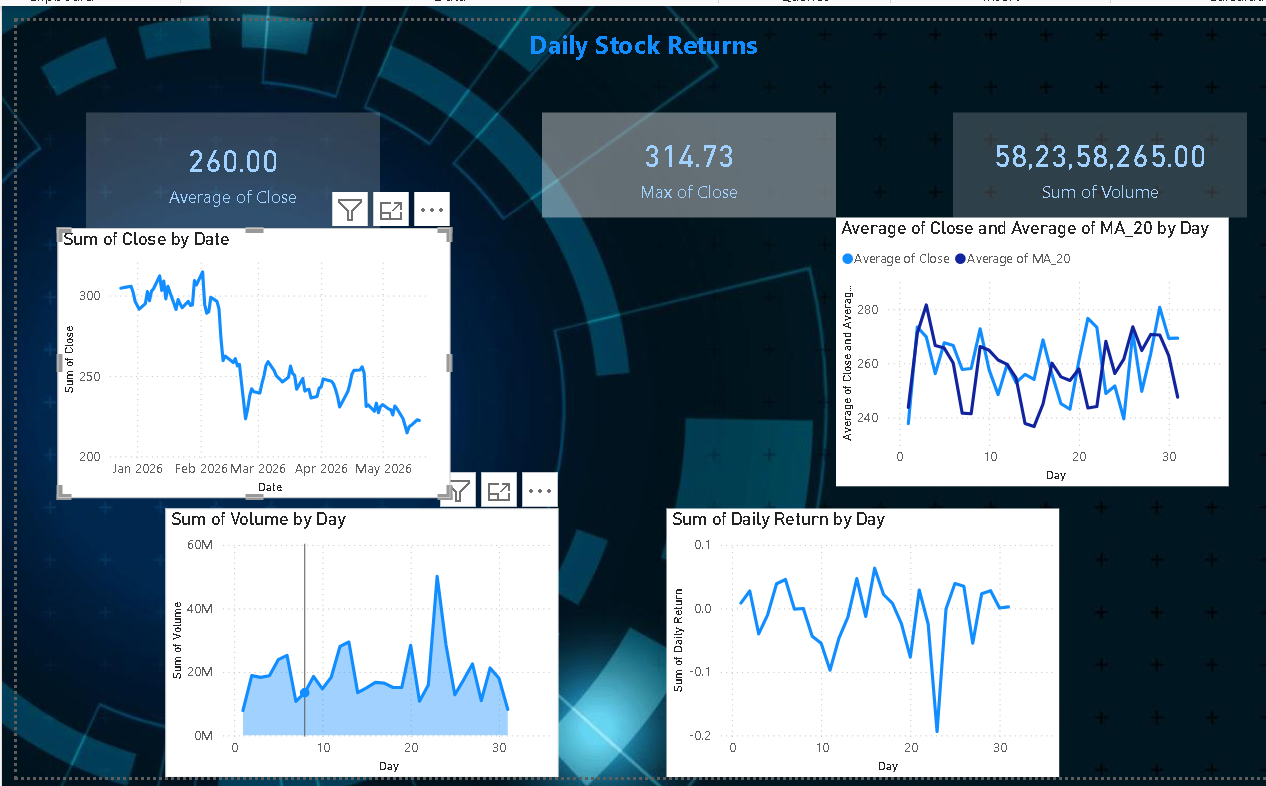

This screenshot's page, from the dashboard's own definition file:
{"tool":"powerbi","page":{"name":"Page 1","canvas":[1280,720],"ordinal":0},"visuals":[{"type":"card","fields":{"Values":["Avg(stock_db stock_data.Close)"]},"box":[65.7,87.1,280,110],"z":0},{"type":"card","fields":{"Values":["Max(stock_db stock_data.Close)"]},"box":[500,87.1,280,100],"z":1},{"type":"card","fields":{"Values":["Sum(stock_db stock_data.Volume)"]},"box":[891.4,87.1,280,100],"z":2},{"type":"lineChart","fields":{"Category":["stock_db stock_data.Date"],"Y":["Sum(stock_db stock_data.Close)"]},"box":[38.6,197.1,374.3,257.1],"z":3},{"type":"lineChart","fields":{"Y":["Avg(stock_db stock_data.Close)","Avg(stock_db stock_data.MA_20)"],"Category":["stock_db stock_data.Date.Variation.Date Hierarchy.Day"]},"box":[780,187.1,374.3,255.7],"z":4},{"type":"stackedAreaChart","fields":{"Category":["stock_db stock_data.Date.Variation.Date Hierarchy.Day"],"Y":["Sum(stock_db stock_data.Volume)"]},"box":[141.4,464.3,374.3,255.7],"z":5},{"type":"lineChart","fields":{"Category":["stock_db stock_data.Date.Variation.Date Hierarchy.Day"],"Y":["Sum(stock_db stock_data.Daily Return)"]},"box":[618.6,464.3,374.3,255.7],"z":6},{"type":"textbox","box":[312.9,0,567.1,87.1],"z":8}]}

Visuals, with their boxes on the page's 1280x720 design canvas (x1, y1, x2, y2). These are canvas units, not pixel positions in the 1266x786 screenshot, which may show the page scaled, cropped or inside an application window:
card - Avg(stock_db stock_data.Close): 66:87:346:197
card - Max(stock_db stock_data.Close): 500:87:780:187
card - Sum(stock_db stock_data.Volume): 891:87:1171:187
lineChart - stock_db stock_data.Date x Sum(stock_db stock_data.Close): 39:197:413:454
lineChart - Avg(stock_db stock_data.Close) x Avg(stock_db stock_data.MA_20): 780:187:1154:443
stackedAreaChart - stock_db stock_data.Date.Variation.Date Hierarchy.Day x Sum(stock_db stock_data.Volume): 141:464:516:720
lineChart - stock_db stock_data.Date.Variation.Date Hierarchy.Day x Sum(stock_db stock_data.Daily Return): 619:464:993:720
textbox: 313:0:880:87
